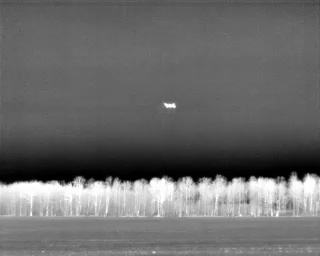DRONE: (160, 98, 180, 113)
